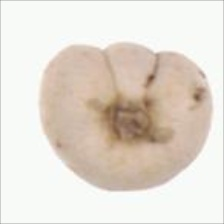L5: (98, 93, 174, 147), (102, 41, 161, 99)
L6: (38, 41, 218, 194)
